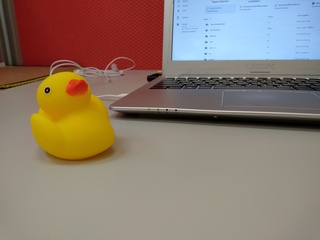duck: (19, 65, 127, 165)
